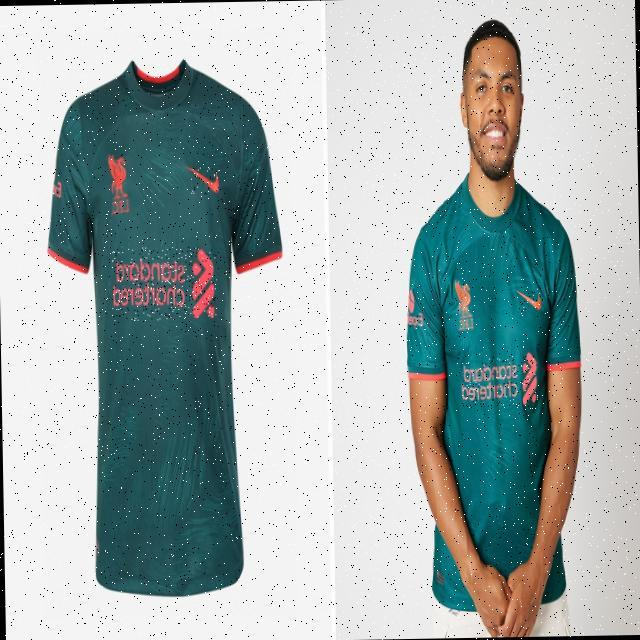Nike: (190, 166, 219, 195), (518, 287, 541, 312)
Standard Chartered: (111, 246, 217, 321), (462, 352, 539, 408)
